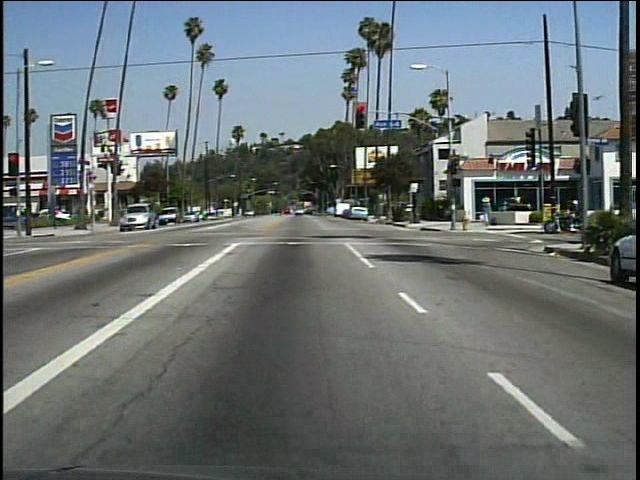person: (560, 194, 586, 236), (478, 192, 494, 228)
